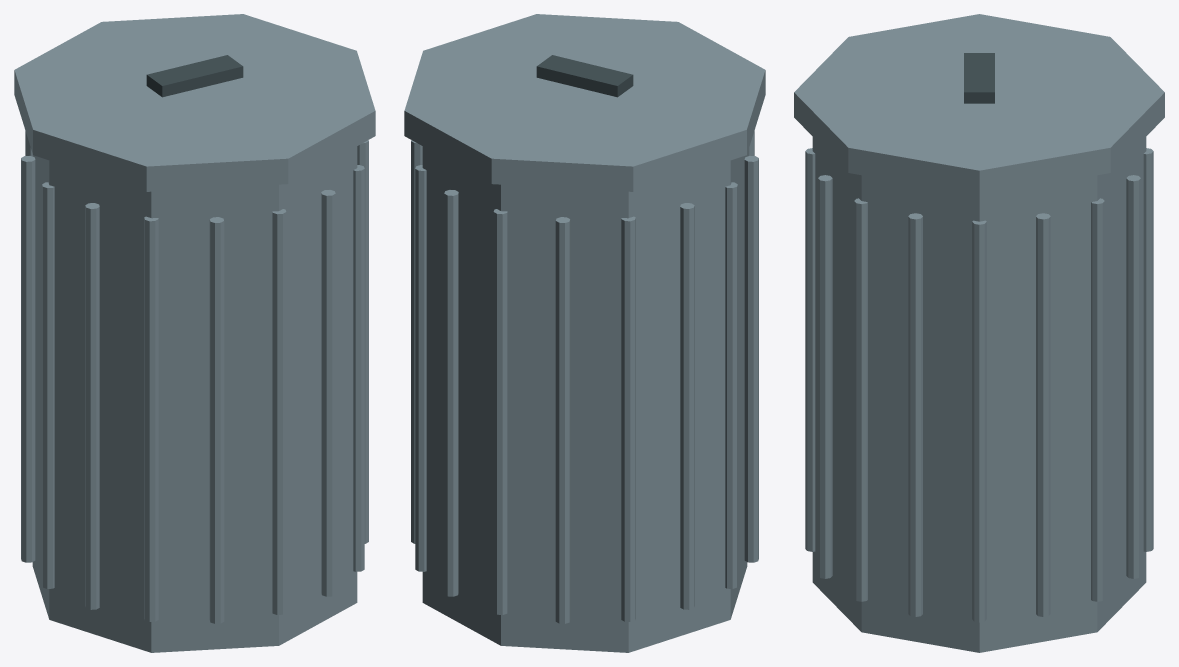
The model's file is bin-metal.glb.
The picture shows the model from 3 angles, left to right: view 1: azimuth 30°, elevation 25°; view 2: azimuth 150°, elevation 25°; view 3: azimuth 270°, elevation 25°; orthographic projection.
Parts seen in each view (by area): view 1: ribbed can, lid handle; view 2: ribbed can, lid handle; view 3: ribbed can, lid handle.
Boxes of the visible parts, x1,y1,x2,y2 form: ribbed can: (14,14,375,652); lid handle: (146,55,243,97); ribbed can: (404,14,765,652); lid handle: (536,55,633,97); ribbed can: (794,14,1164,652); lid handle: (964,53,994,103).
Bounding box in the file's own units: 0.6 × 0.91 × 0.6.
